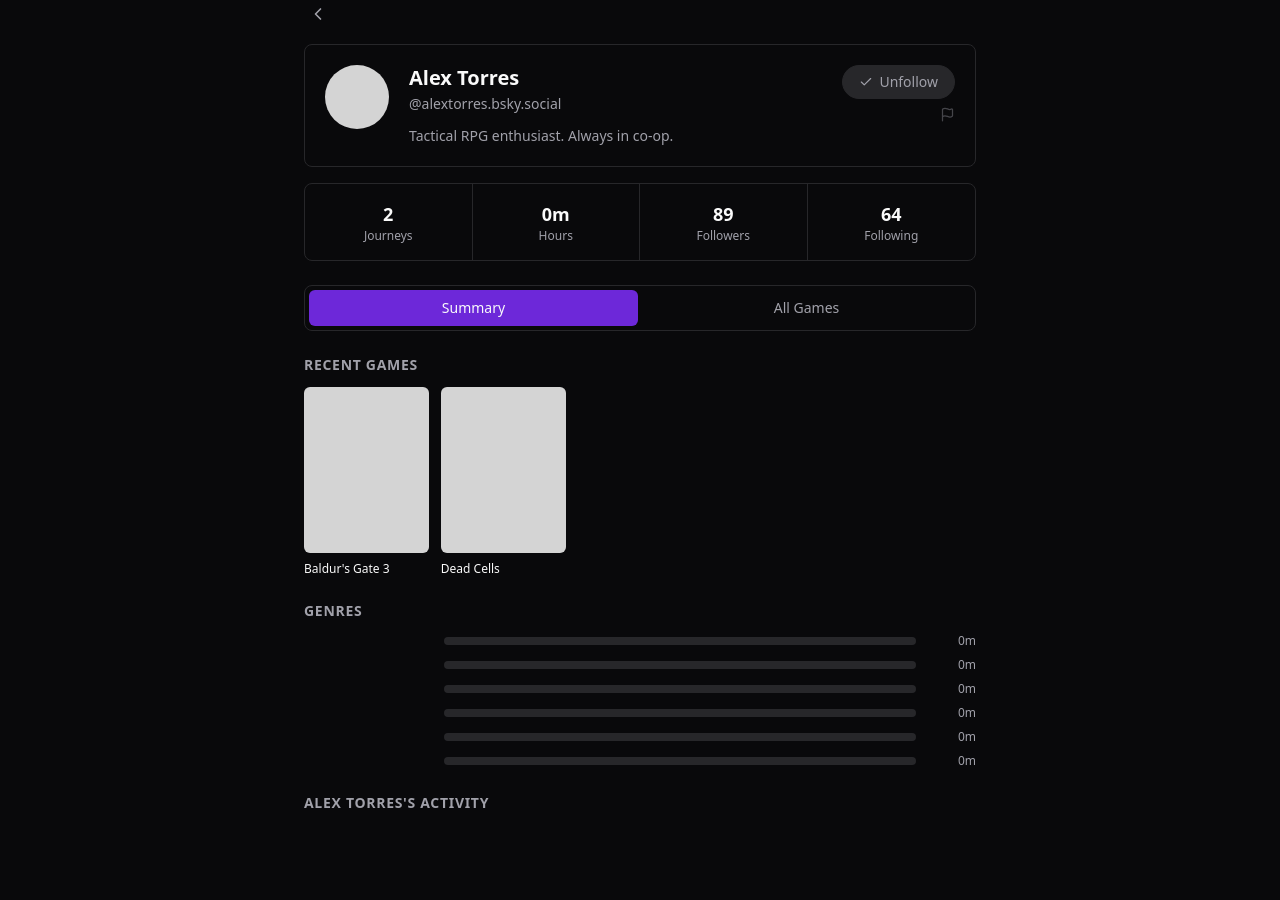
Test: PlayerProfile › shows a Load more button inside the followers modal when the API returns a next_cursor
This screenshot has width=1280, height=900.
Click the button "89 Followers" at (724, 222), box top-left (640, 184), bottom-right (808, 260)
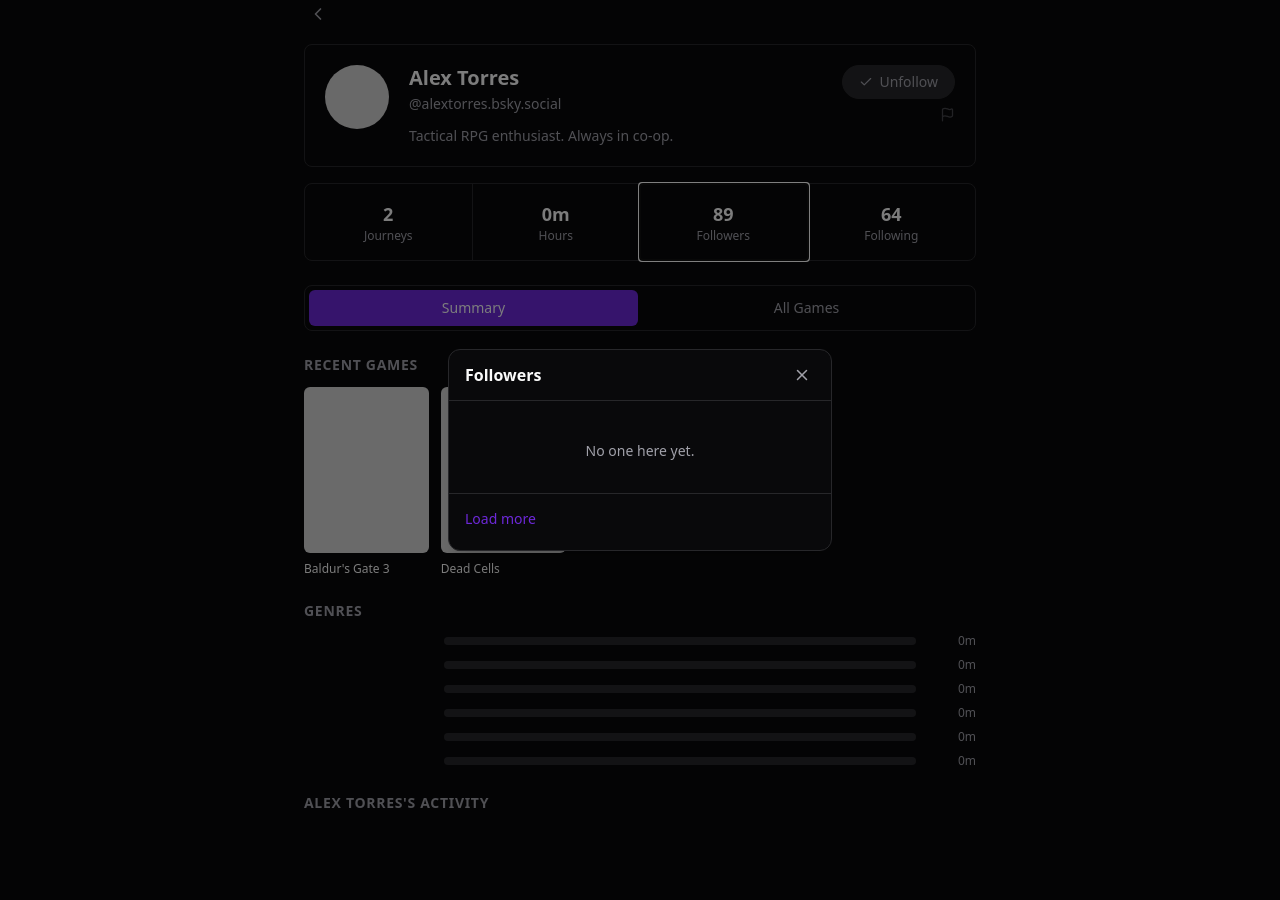
Check: the button "Load more" is shown, box top-left (465, 509), bottom-right (536, 529)
